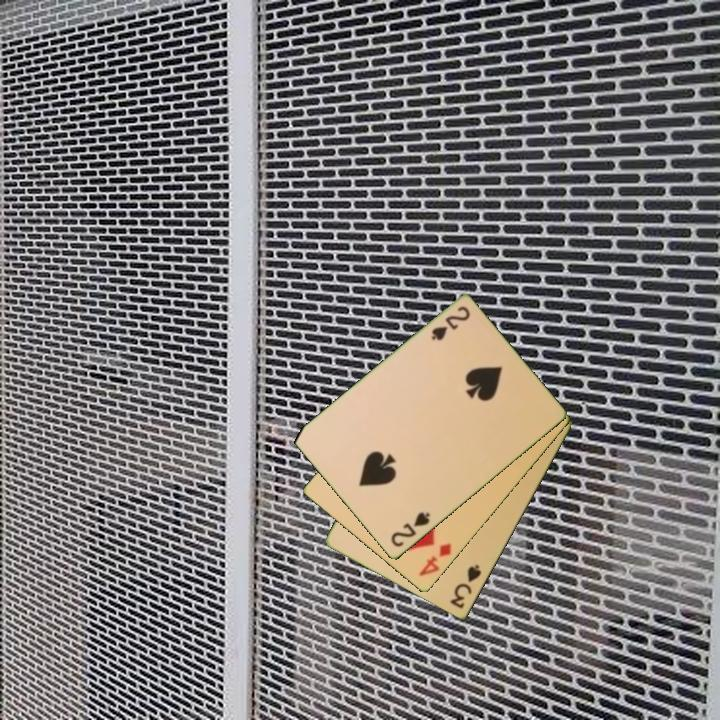2s: (387, 509, 433, 550), (427, 303, 473, 344)
3s: (447, 561, 484, 612)
4d: (415, 540, 454, 579)
